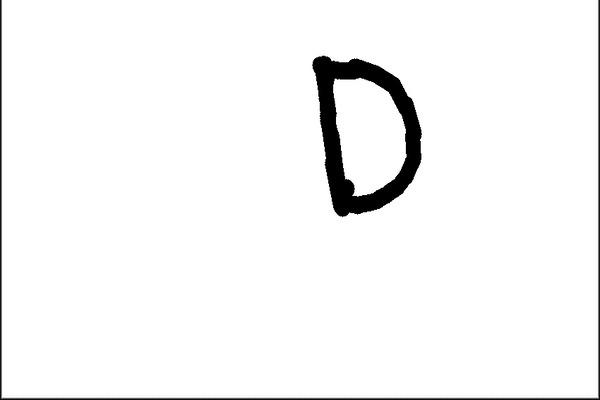D: (304, 48, 430, 223)
